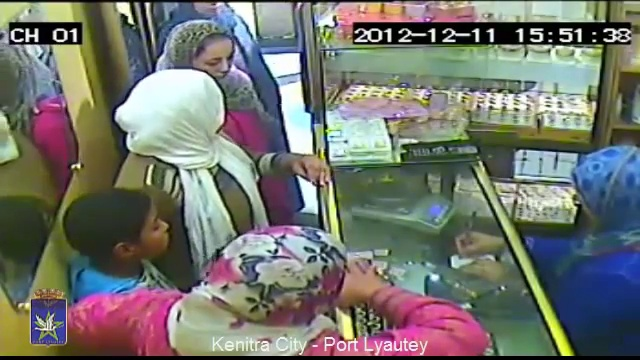face: (108, 204, 175, 261), (186, 28, 237, 80)
